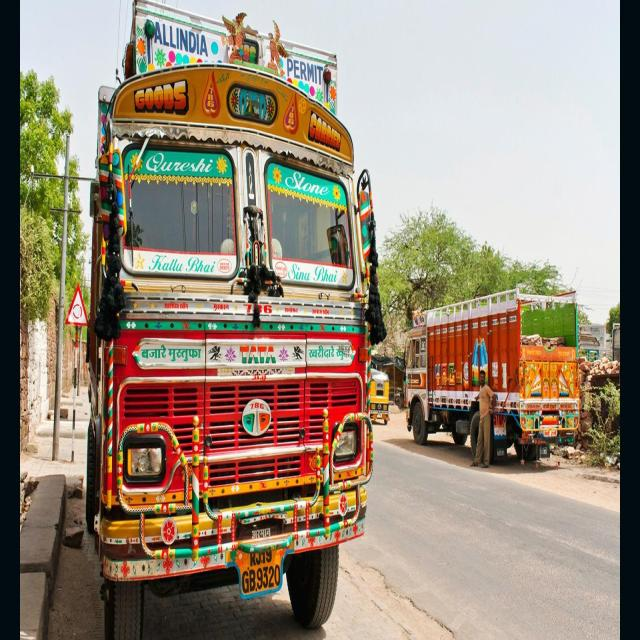number_plate: (234, 540, 284, 591)
